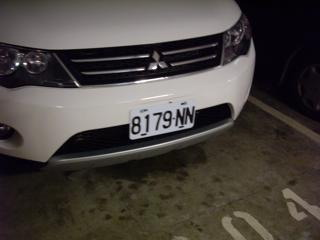plate: (130, 97, 194, 138)
